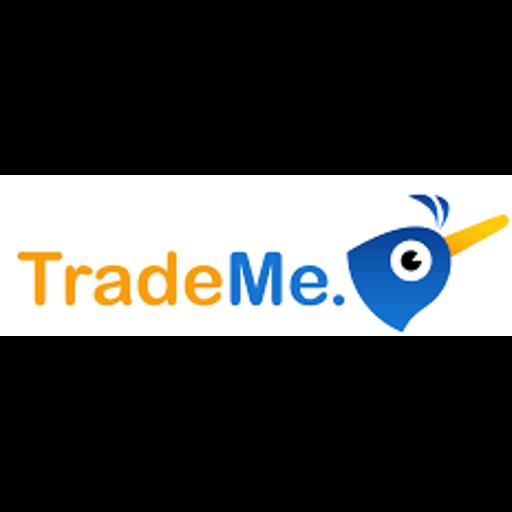Trade Me NZ: (0, 175, 512, 336)
